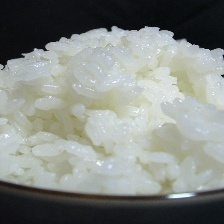rice: (2, 30, 224, 197)
